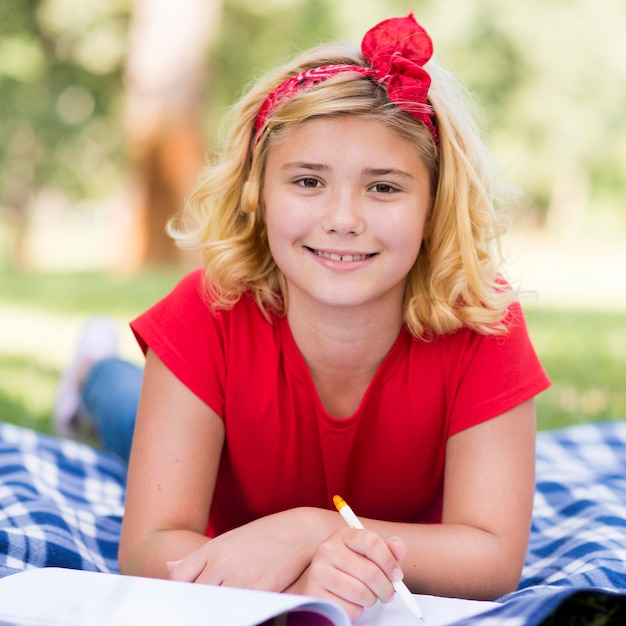teen: (241, 40, 466, 328)
